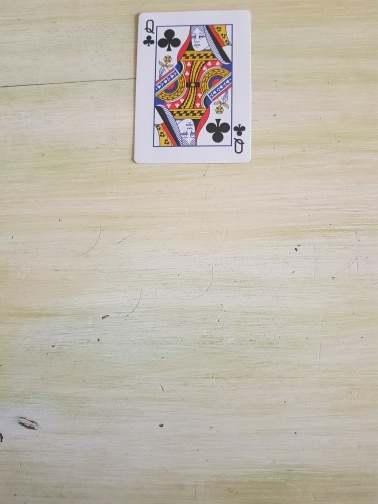queen: (134, 10, 252, 165)
